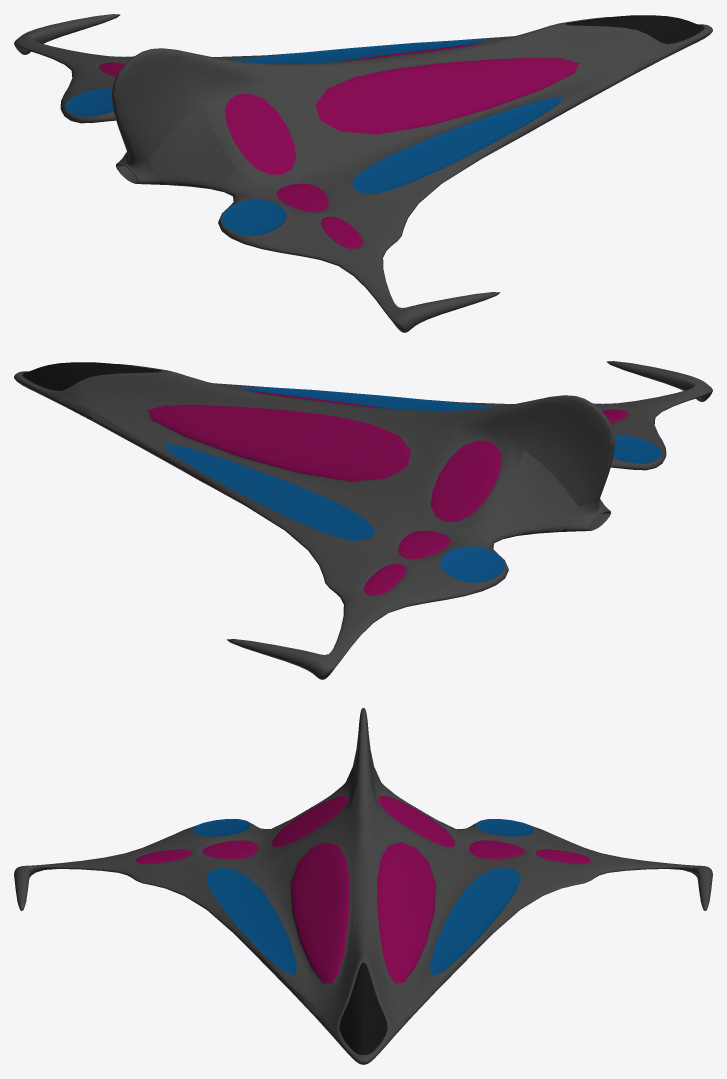
File: Eriax_Fighter_MK1.FBX
3 views of the same model, one above another, from view 1: azimuth 30°, elevation 25°; view 2: azimuth 150°, elevation 25°; view 3: azimuth 270°, elevation 25° (orthographic). The views are drawn at different scales.
Visible parts, largest first — view 1: box0000000, box0000001, box, box0000002; view 2: box0000000, box0000001, box, box0000002; view 3: box0000000, box0000001, box, box0000002.
Boxes of the visible parts, bbox=[...] form: box0000000: bbox=[14, 14, 712, 332]; box0000001: bbox=[98, 43, 579, 248]; box: bbox=[65, 39, 563, 235]; box0000002: bbox=[565, 15, 704, 43]; box0000000: bbox=[14, 361, 712, 679]; box0000001: bbox=[147, 390, 628, 595]; box: bbox=[163, 386, 661, 582]; box0000002: bbox=[22, 362, 161, 390]; box0000000: bbox=[14, 708, 712, 1064]; box0000001: bbox=[135, 796, 591, 983]; box: bbox=[193, 819, 533, 975]; box0000002: bbox=[339, 962, 387, 1054].
Bounding box in the file's own units: 51.4 × 13.03 × 57.68.
